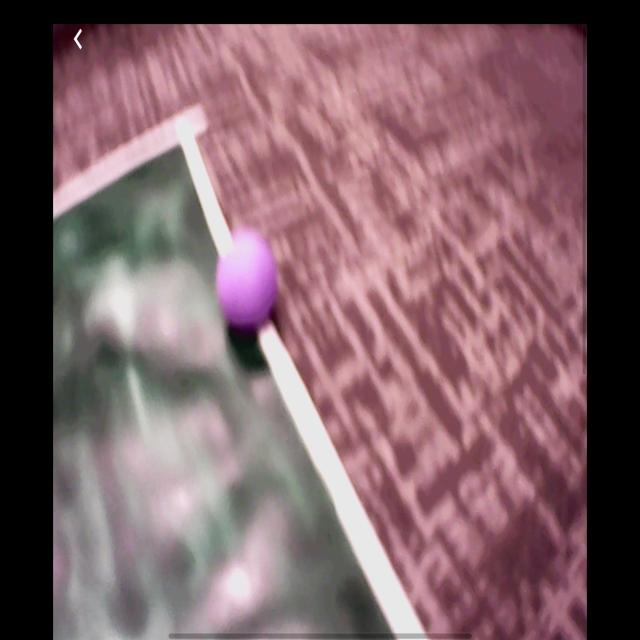ball: (215, 226, 279, 334)
